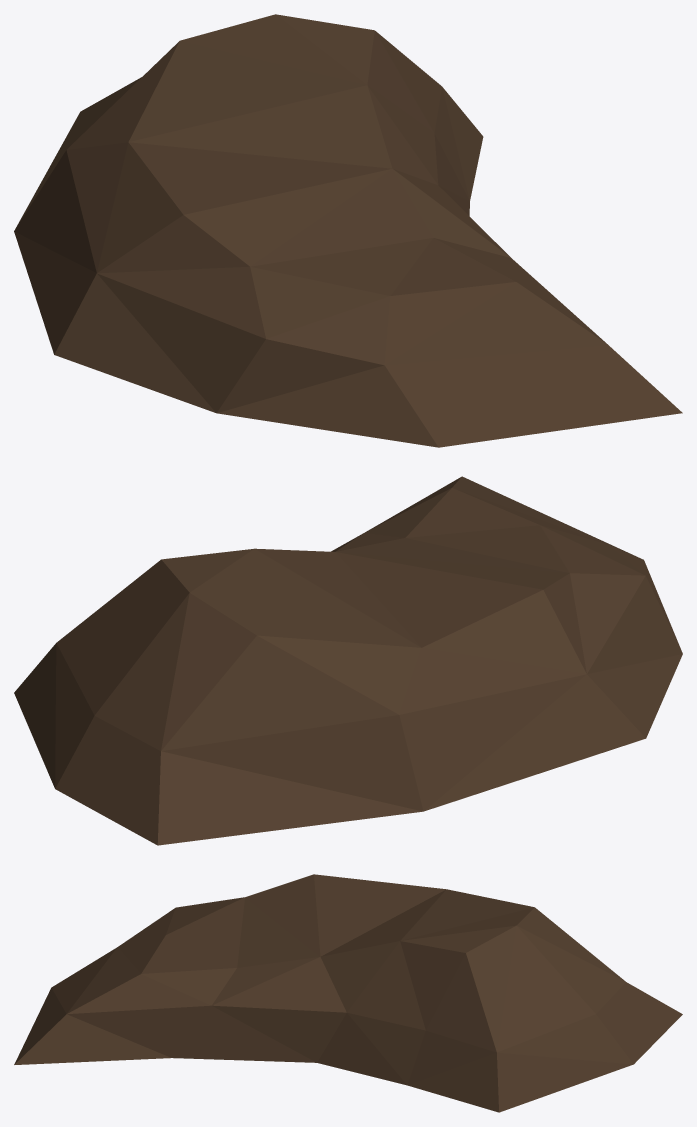
File: Rock_7_Dark_Brown.fbx
3 views of the same model, one above another, from view 1: azimuth 30°, elevation 25°; view 2: azimuth 150°, elevation 25°; view 3: azimuth 270°, elevation 25° (orthographic). The views are drawn at different scales.
Visible parts, largest first — view 1: Rock_7_Dark_Brown; view 2: Rock_7_Dark_Brown; view 3: Rock_7_Dark_Brown.
Part boxes in pixels (x1,y1,x2,y2): Rock_7_Dark_Brown: (14,14,682,447); Rock_7_Dark_Brown: (14,476,682,845); Rock_7_Dark_Brown: (14,874,682,1112).
Bounding box in the file's own units: 228 × 64.34 × 332.
